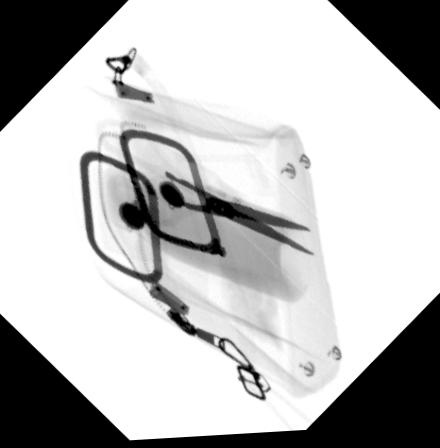Scissors: (99, 122, 313, 259)
